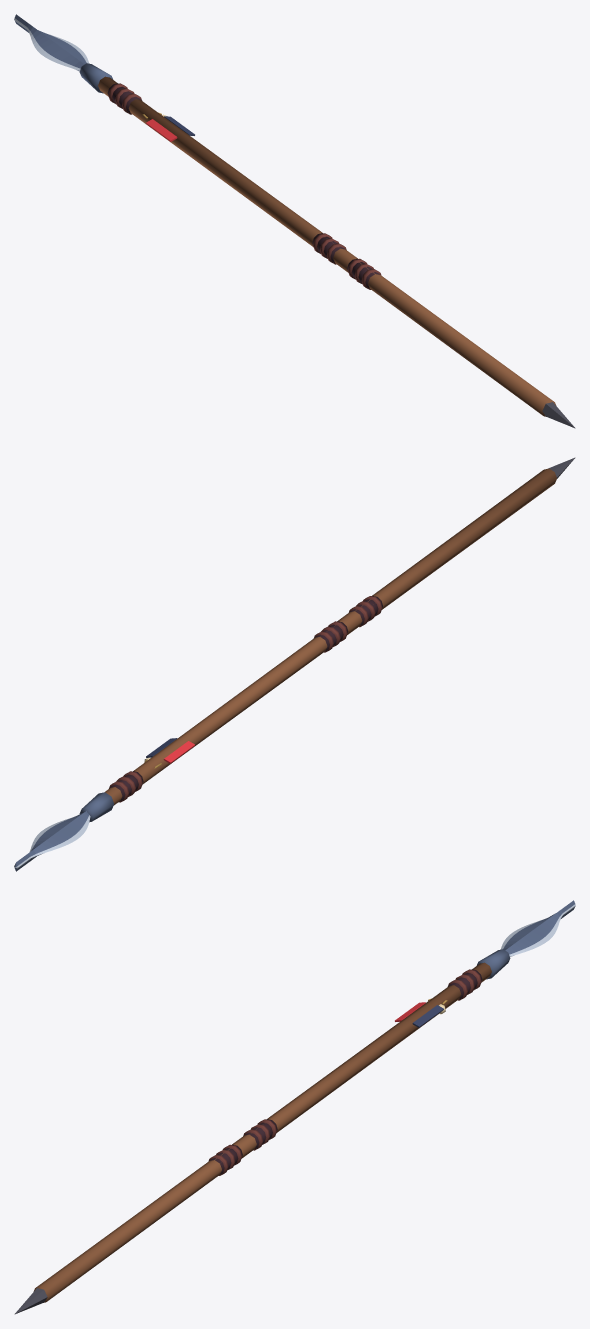
File: weapon_orc_spear.glb
3 views of the same model, one above another, from view 1: azimuth 30°, elevation 25°; view 2: azimuth 150°, elevation 25°; view 3: azimuth 330°, elevation 25° (orthographic).
Parts seen in each view (by area): view 1: piece; view 2: piece; view 3: piece.
Boxes of the visible parts, <box> form: piece: <box>14,14,575,428</box>; piece: <box>14,457,575,871</box>; piece: <box>14,900,575,1314</box>.
Bounding box in the file's own units: 0.0995 × 0.052 × 2.74.
